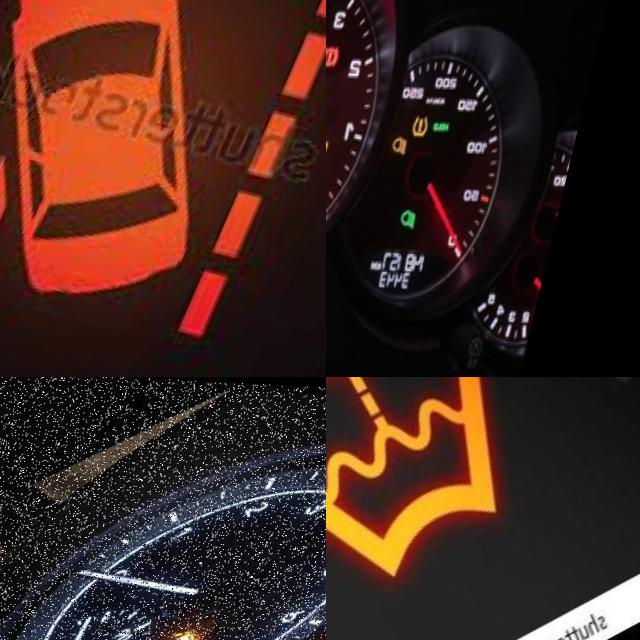Washer Fluid: (326, 377, 557, 577)
